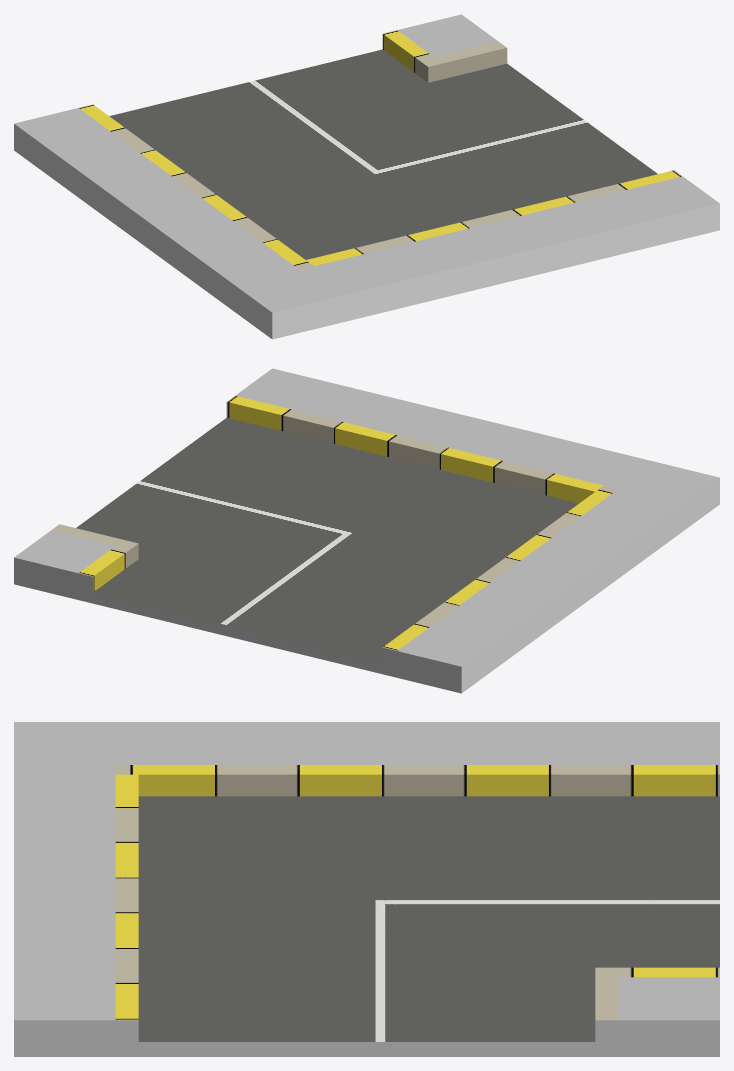
The model's file is sag-donus-asagi.dae.
3 renders of one model, top to bottom at view 1: azimuth 30°, elevation 25°; view 2: azimuth 150°, elevation 25°; view 3: azimuth 270°, elevation 25°, orthographic. The views are drawn at different scales.
Visible parts, largest first — view 1: group_0 (×5); view 2: group_0 (×5); view 3: group_0 (×5).
Part boxes in pixels (bbox=[...]): group_0 (×5): bbox=[14, 14, 719, 339]; group_0 (×5): bbox=[14, 368, 719, 693]; group_0 (×5): bbox=[14, 722, 719, 1056].
Size of the model in its own units: 134 by 134 by 7.66.
Materials: 5 (2 with a texture image).
